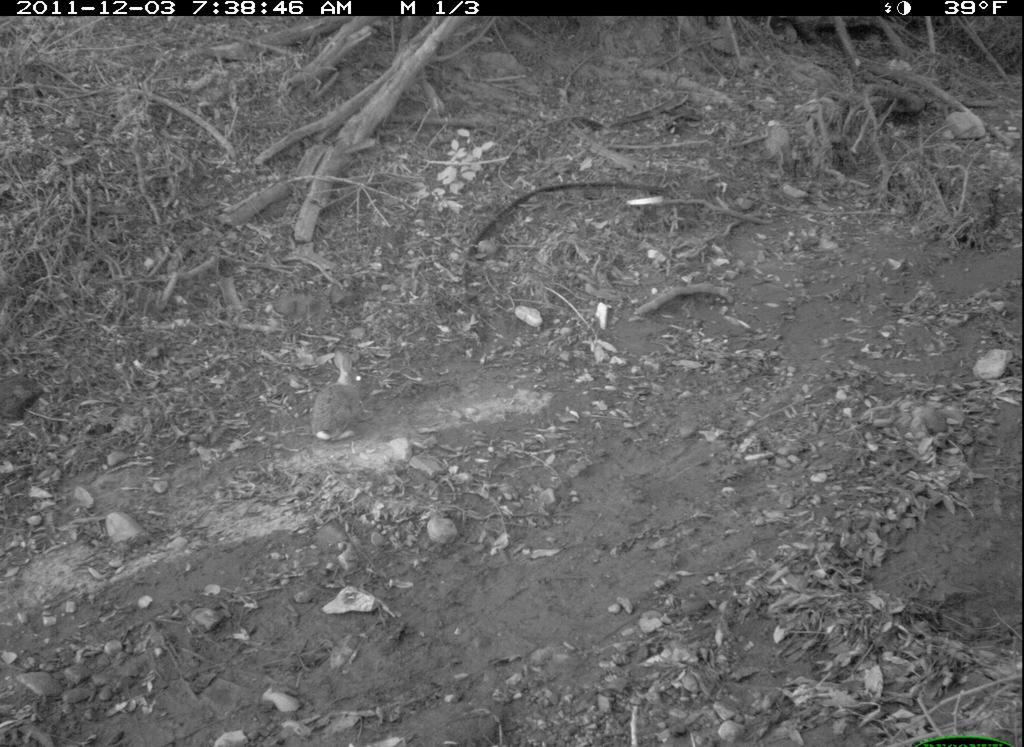rabbit: (304, 342, 390, 459)
